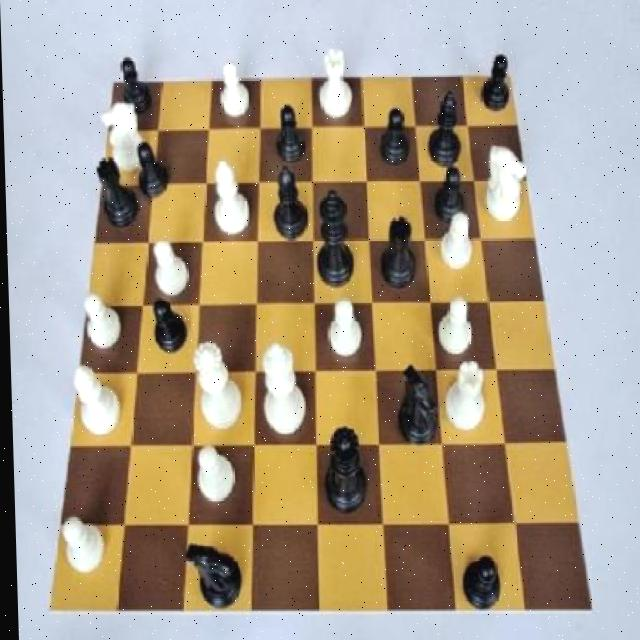bishop: (423, 82, 468, 170), (267, 154, 308, 250)
black-bishop: (312, 190, 357, 304)
black-king: (183, 525, 245, 616), (393, 360, 440, 452)
black-knight: (451, 548, 504, 618), (115, 51, 160, 131), (141, 291, 187, 362), (428, 163, 466, 243), (475, 43, 513, 122), (134, 134, 172, 211), (267, 101, 309, 170), (373, 97, 410, 172)
black-pawn: (316, 420, 373, 523)
black-queen: (371, 209, 422, 298), (91, 154, 138, 237)
black-rook: (205, 156, 253, 247), (70, 362, 124, 442)
white-bishop: (254, 335, 309, 451)
white-king: (96, 98, 149, 182), (482, 137, 528, 230)
white-knight: (433, 206, 483, 293), (191, 434, 239, 524), (53, 511, 109, 583), (321, 288, 370, 370), (430, 290, 479, 372), (74, 280, 122, 362), (214, 55, 258, 131), (149, 234, 195, 303)
white-pawn: (188, 332, 246, 436)
white-queen: (442, 360, 497, 442), (316, 42, 360, 129)
